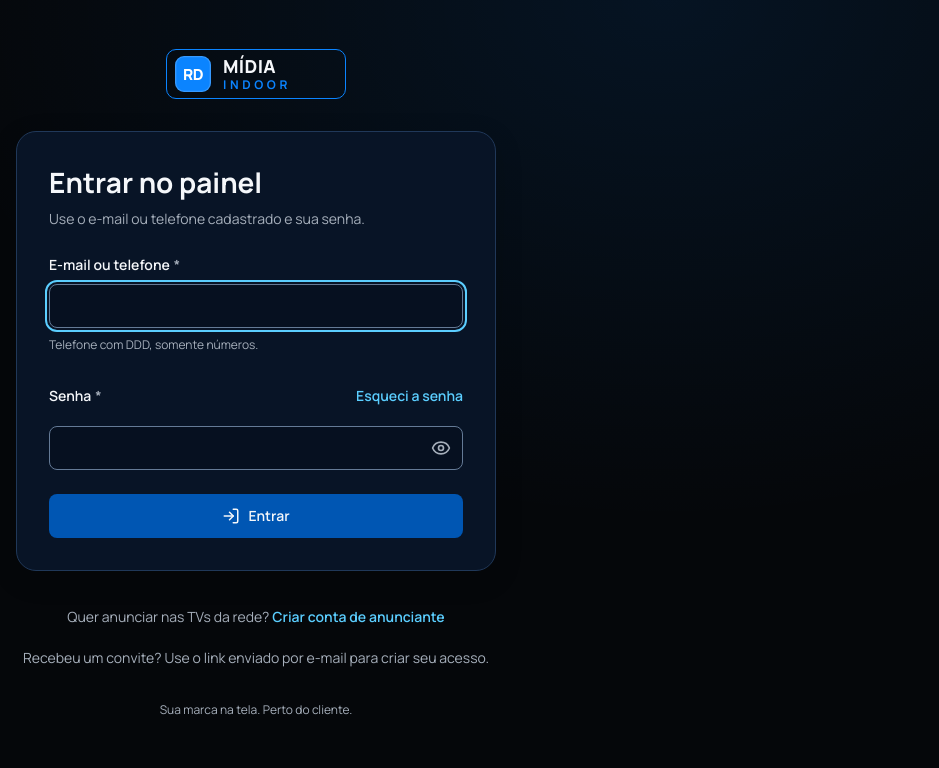
Test: LoginPage › valida campos obrigatórios com erro junto ao campo
Click the button "Entrar".
click(256, 516)  # box [49, 494, 463, 538]
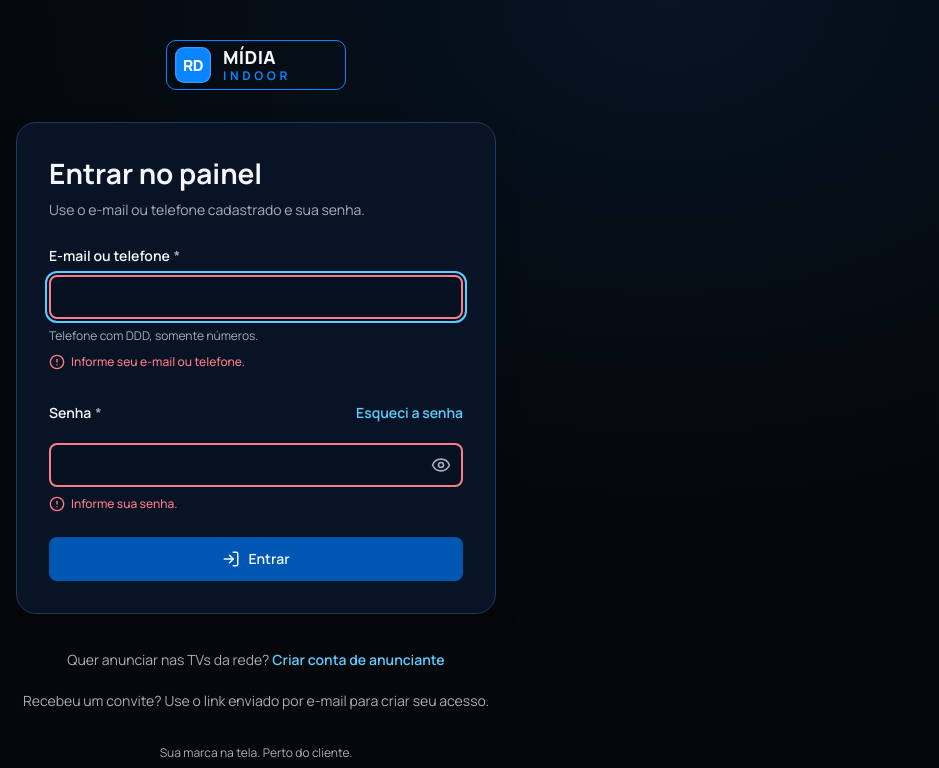
Now the text "Informe seu e-mail ou telefone." is shown, box [71, 353, 245, 371]
